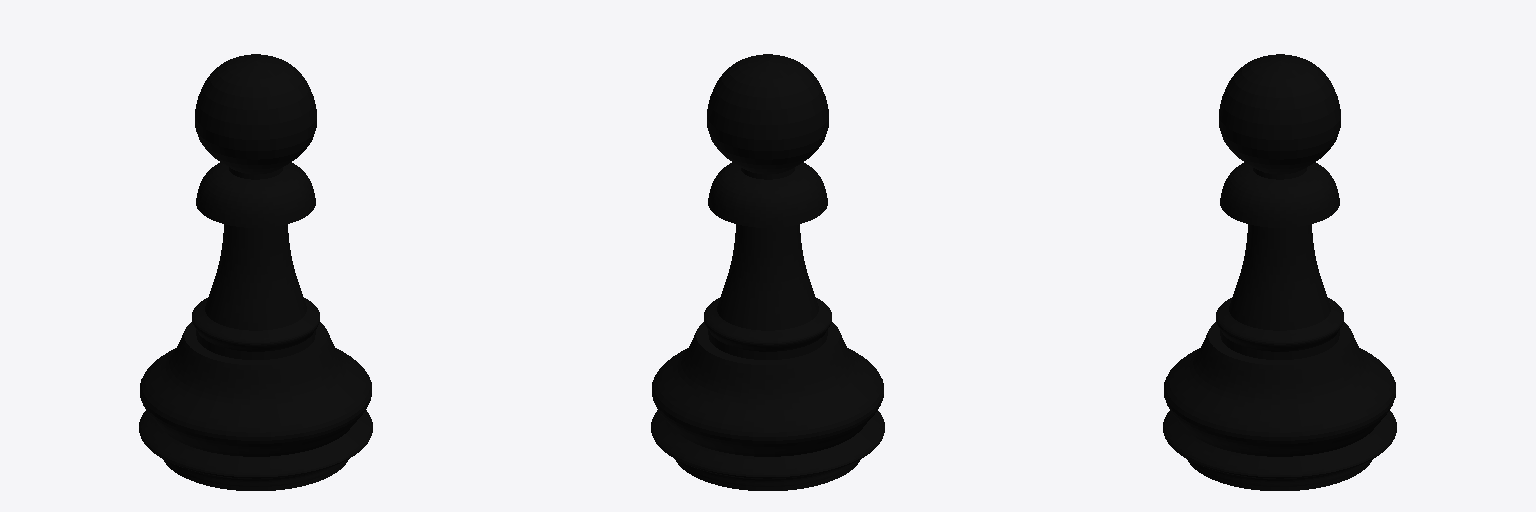
File: pawn.obj
3 views of the same model, side by side, from view 1: azimuth 30°, elevation 25°; view 2: azimuth 150°, elevation 25°; view 3: azimuth 270°, elevation 25° (orthographic).
Visible parts, largest first — view 1: Pawn_0; view 2: Pawn_0; view 3: Pawn_0.
Boxes of the visible parts, x1,y1,x2,y2 form: Pawn_0: [139, 54, 372, 490]; Pawn_0: [651, 54, 884, 490]; Pawn_0: [1163, 54, 1396, 490].
Bounding box in the file's own units: 42.22 × 77.56 × 42.22.